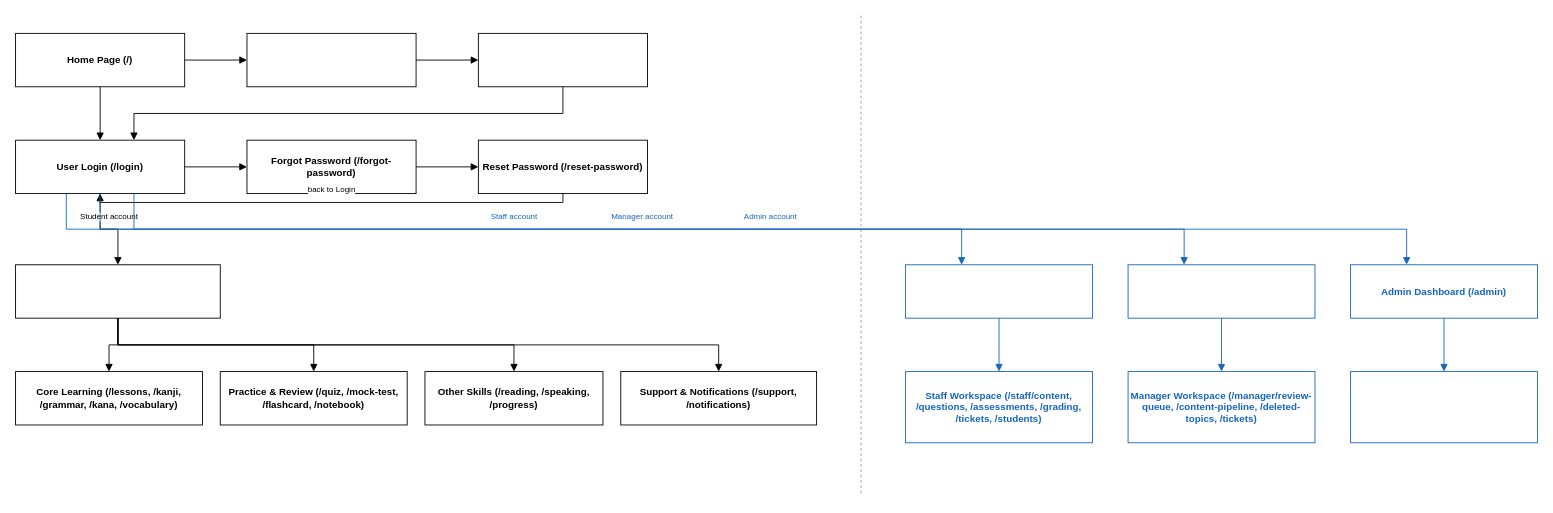
Image size: 1553x513. Some labels were removed from this diagram. Here are the shapes that lost their labels. From the top down, the centre of each, then its label:
At pixel 331 59: "User Register (/register)".
At pixel 562 59: "Verify Email (/verify-email)".
At pixel 117 291: "Student Dashboard (/dashboard, /profile, /settings)".
At pixel 998 291: "Staff Dashboard (/staff)".
At pixel 1221 291: "Manager Dashboard (/manager)".
At pixel 1443 407: "Admin Workspace (/admin/users, /settings, /reports)".
